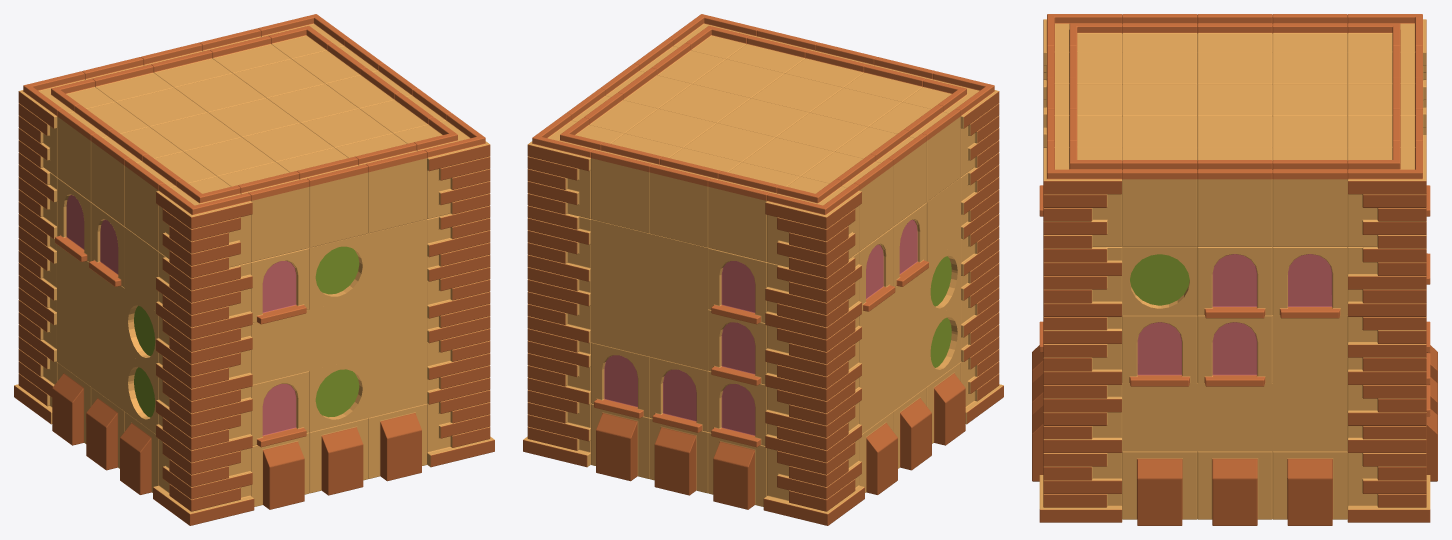
The model's file is house v3.001.fbx.
The picture shows the model from 3 angles, left to right: view 1: azimuth 30°, elevation 25°; view 2: azimuth 150°, elevation 25°; view 3: azimuth 270°, elevation 25°; orthographic projection. The views are drawn at different scales.
Parts seen in each view (by area): view 1: House; view 2: House; view 3: House.
Part boxes in pixels (x1,y1,x2,y2): House: (14,14,494,525); House: (523,14,1003,525); House: (1032,14,1437,525).
Bounding box in the file's own units: 540 × 510 × 540.
